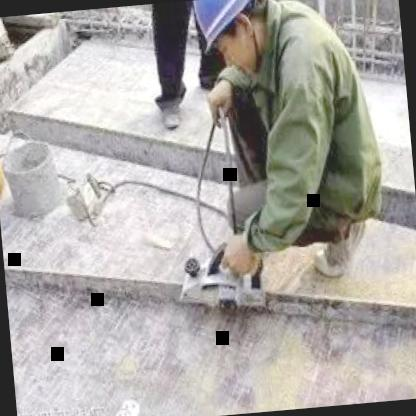helmet: (181, 0, 282, 81)
